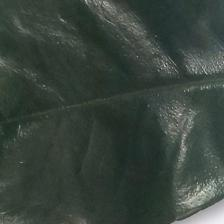healthy: (5, 6, 197, 196)
